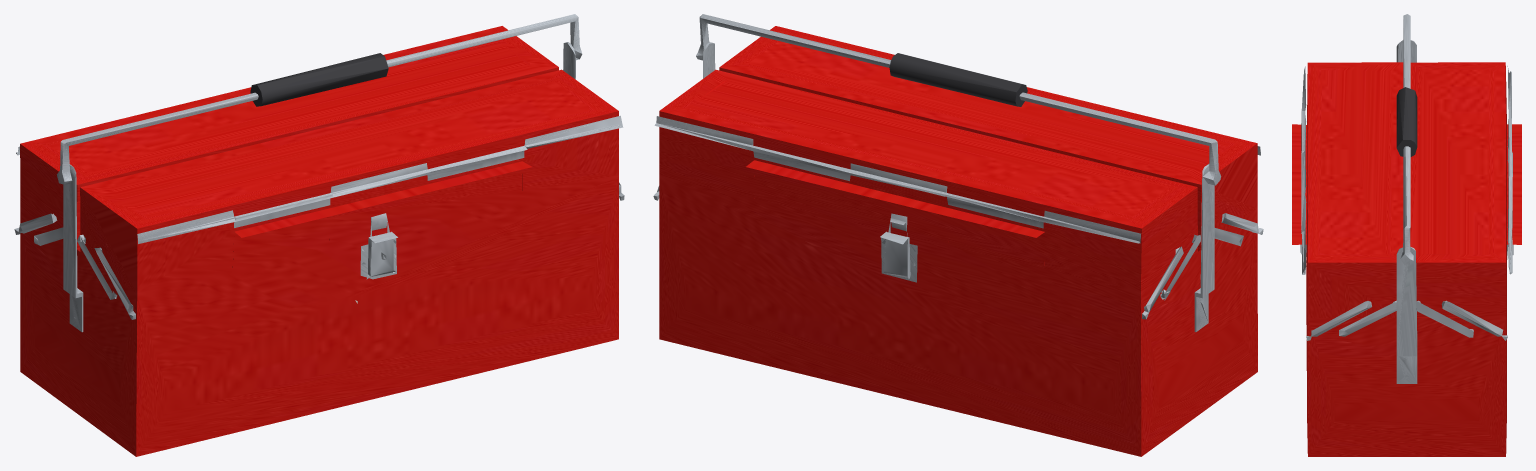
File: simready-toolbox-metal.lite.c6818c14.glb
3 views of the same model, side by side, from view 1: azimuth 30°, elevation 25°; view 2: azimuth 150°, elevation 25°; view 3: azimuth 270°, elevation 25° (orthographic). The views are drawn at different scales.
Parts seen in each view (by area): view 1: model; view 2: model; view 3: model.
Part boxes in pixels (box(x1,y1,x2,y2)): model: box(14, 14, 624, 456); model: box(653, 14, 1263, 456); model: box(1292, 14, 1521, 456).
Bounding box in the file's own units: 0.534 × 0.2861 × 0.241.
Materials: 5 (2 with a texture image).
